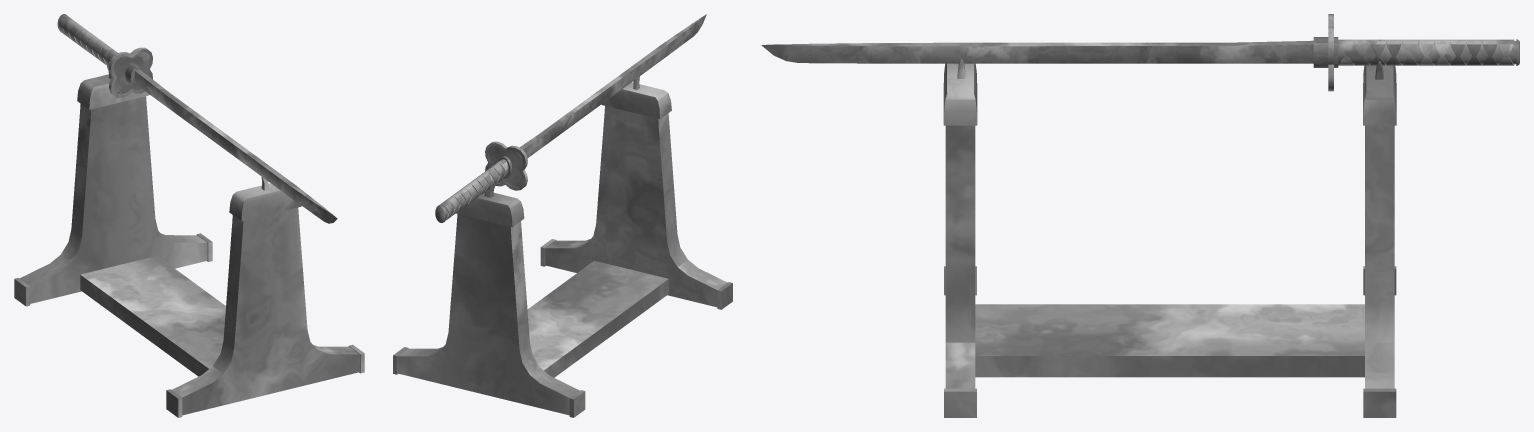
File: sm_support_weapons_01.fbx
3 views of the same model, side by side, from view 1: azimuth 30°, elevation 25°; view 2: azimuth 150°, elevation 25°; view 3: azimuth 270°, elevation 25° (orthographic). The views are drawn at different scales.
Visible parts, largest first — view 1: sm_support_weapons_01; view 2: sm_support_weapons_01; view 3: sm_support_weapons_01.
Part boxes in pixels (x1,y1,x2,y2): sm_support_weapons_01: (14,14,364,417); sm_support_weapons_01: (393,14,732,417); sm_support_weapons_01: (761,14,1519,417).
Size of the model in its own units: 56.64 by 145 by 70.16.
2 materials, 2 textured.
